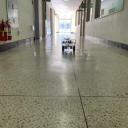cart: (62, 39, 76, 51)
